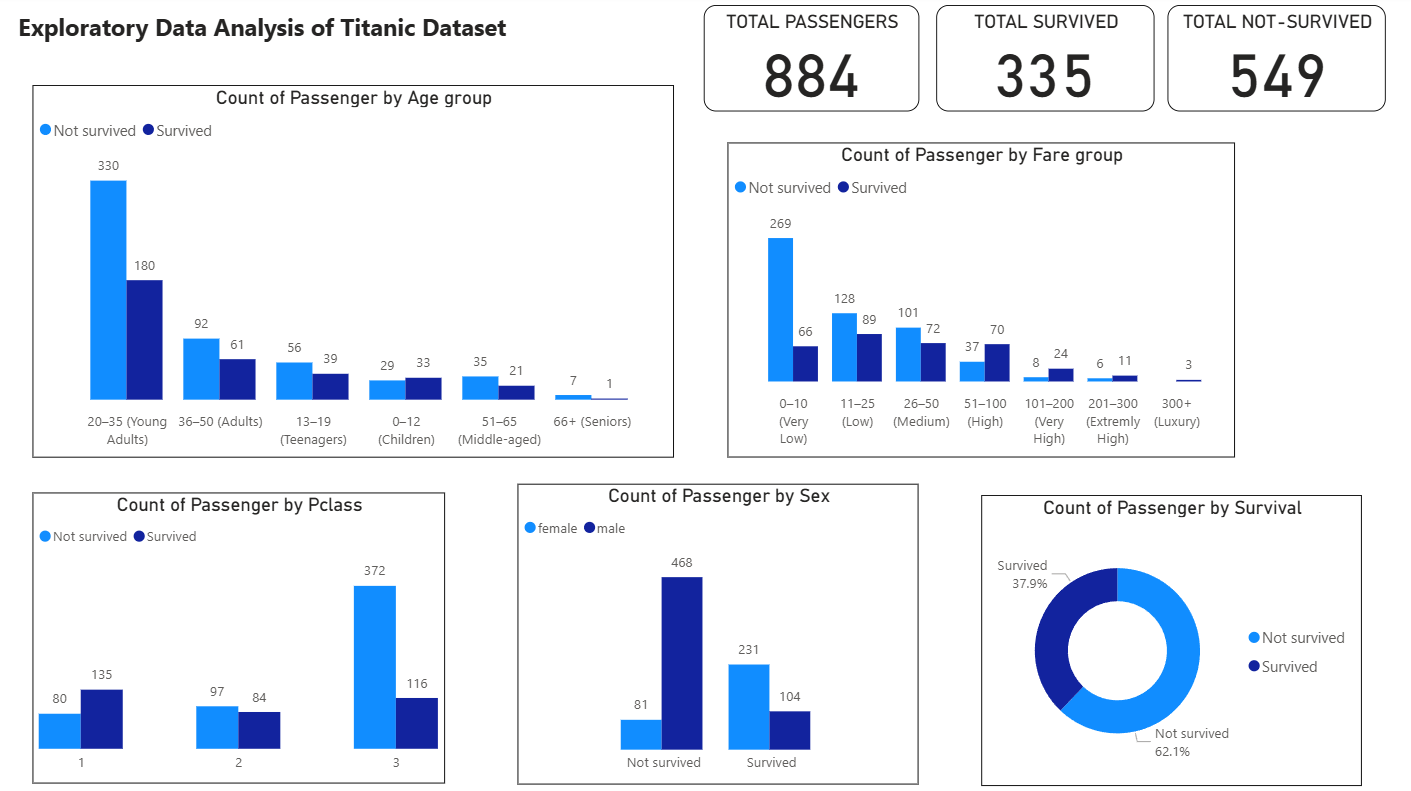

What the dashboard file says about the page in this screenshot:
{"tool":"powerbi","page":{"name":"Page 1","canvas":[1280,720],"ordinal":0},"visuals":[{"type":"clusteredColumnChart","title":"Count of  Passenger by Sex","fields":{"Category":["clean titanic data.SURVIVED1"],"Series":["clean titanic data.Sex"],"Y":["CountNonNull(clean titanic data.PassengerId)"]},"box":[466.5,440.4,362,271.2],"z":1000},{"type":"clusteredColumnChart","title":" Count of Passenger by Pclass ","fields":{"Series":["clean titanic data.SURVIVED1"],"Category":["clean titanic data.Pclass"],"Y":["CountNonNull(clean titanic data.PassengerId)"]},"box":[29.9,449.1,371.9,262.5],"z":2000},{"type":"clusteredColumnChart","title":" Count of Passenger by Age group","fields":{"Category":["clean titanic data.age group"],"Y":["CountNonNull(clean titanic data.PassengerId)"],"Series":["clean titanic data.SURVIVED1"]},"box":[29.9,80.9,578.4,335.9],"z":2001},{"type":"clusteredColumnChart","title":" Count of Passenger by Fare group","fields":{"Y":["CountNonNull(clean titanic data.PassengerId)"],"Series":["clean titanic data.SURVIVED1"],"Category":["clean titanic data.Fare Group"]},"box":[655.6,133.1,457.8,283.6],"z":2002},{"type":"textbox","box":[11.2,8.7,451.6,41.1],"z":2003},{"type":"card","title":"TOTAL PASSENGERS","fields":{"Values":["clean titanic data.TOTAL PASSENGERS"]},"box":[634.4,8.7,194.1,95.8],"z":2004},{"type":"card","title":"TOTAL SURVIVED","fields":{"Values":["Sum(clean titanic data.Survived)"]},"box":[844.6,8.7,196.5,95.8],"z":2005},{"type":"card","title":"TOTAL NOT-SURVIVED","fields":{"Values":["clean titanic data.NOT SURVIVED P"]},"box":[1052.4,8.7,196.5,95.8],"z":2006},{"type":"donutChart","title":"Count of Passenger by Survival","fields":{"Category":["clean titanic data.SURVIVED1"],"Y":["CountNonNull(clean titanic data.PassengerId)"]},"box":[884.5,450.3,343.3,262.5],"z":2007}]}

Visuals, with their boxes in screenshot pixels (x1, y1, x2, y2), scaled from the page's 1280x720 canvas onto the 1411x791 screenshot:
"Count of  Passenger by Sex" clusteredColumnChart: x1=514 y1=484 x2=913 y2=782
" Count of Passenger by Pclass " clusteredColumnChart: x1=33 y1=493 x2=443 y2=782
" Count of Passenger by Age group" clusteredColumnChart: x1=33 y1=89 x2=671 y2=458
" Count of Passenger by Fare group" clusteredColumnChart: x1=723 y1=146 x2=1227 y2=458
textbox: x1=12 y1=10 x2=510 y2=55
"TOTAL PASSENGERS" card: x1=699 y1=10 x2=913 y2=115
"TOTAL SURVIVED" card: x1=931 y1=10 x2=1148 y2=115
"TOTAL NOT-SURVIVED" card: x1=1160 y1=10 x2=1377 y2=115
"Count of Passenger by Survival" donutChart: x1=975 y1=495 x2=1353 y2=783
